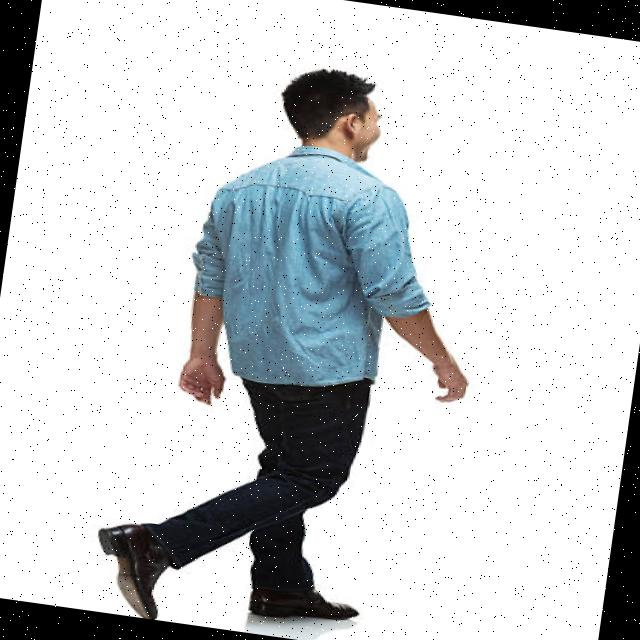Person: (89, 47, 508, 640)
